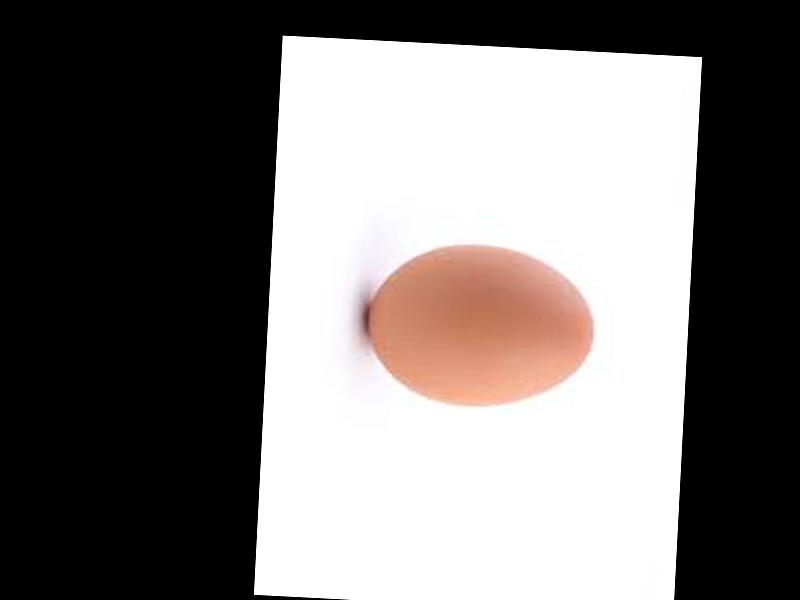Eggs: (364, 237, 599, 410)
